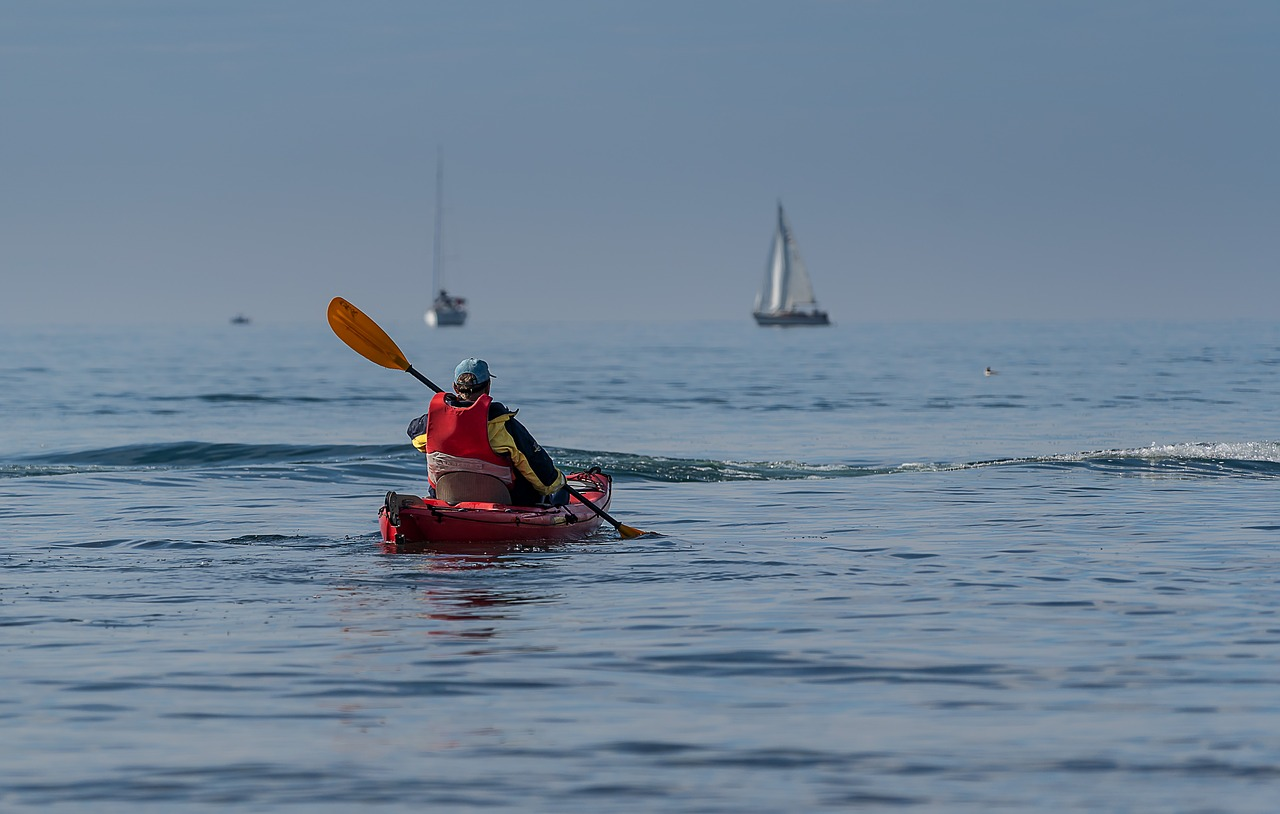kayak: (369, 466, 619, 548)
